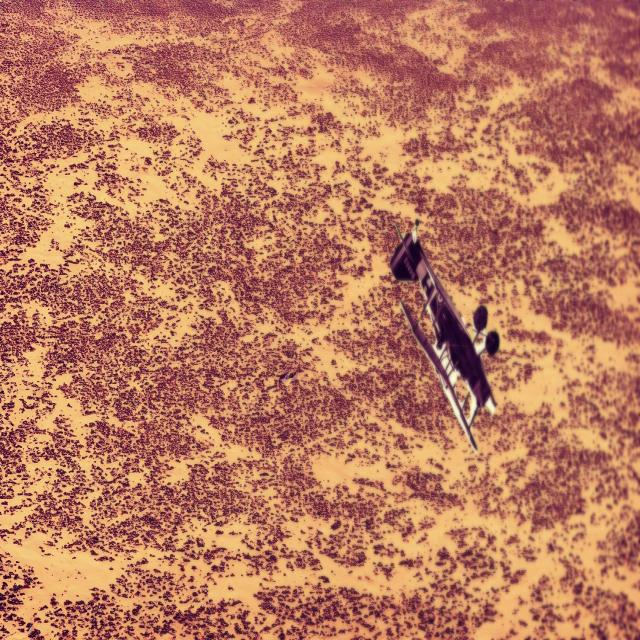airplane: (389, 218, 500, 454)
